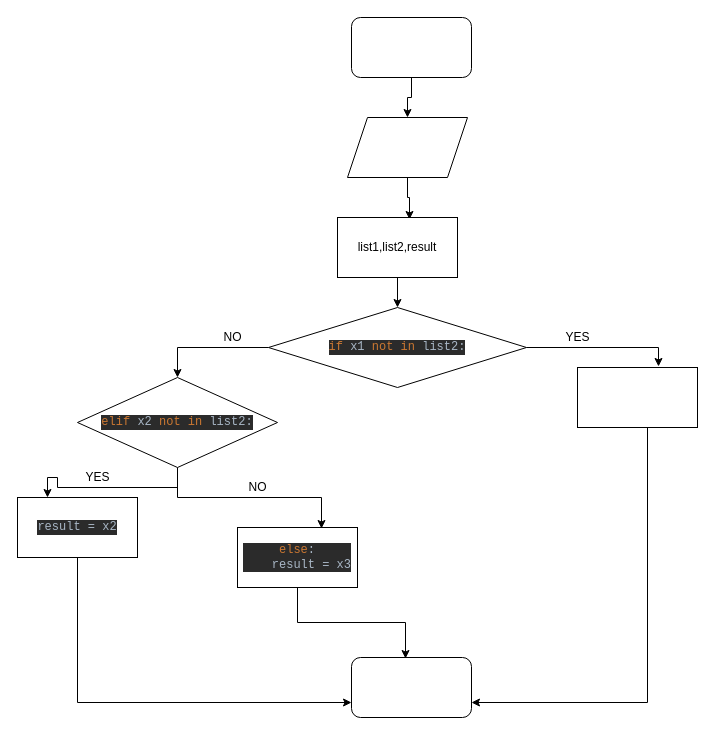
Some shapes in this 715 by 735 pixel diagram are drawn without their labels. Here are the shapes that lost their labels. From the top down, the centre of each, then its label:
At pixel 407 147: "x1,x2,x3".
At pixel 637 397: "result = x1".
